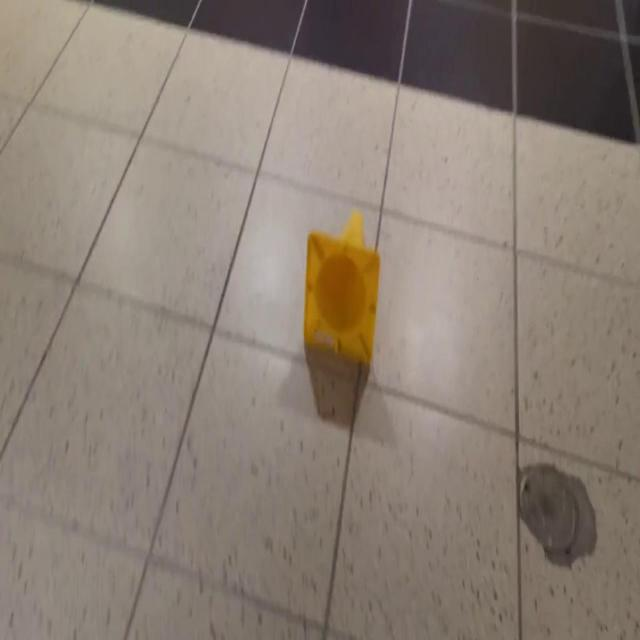frc_cone: (303, 209, 382, 367)
